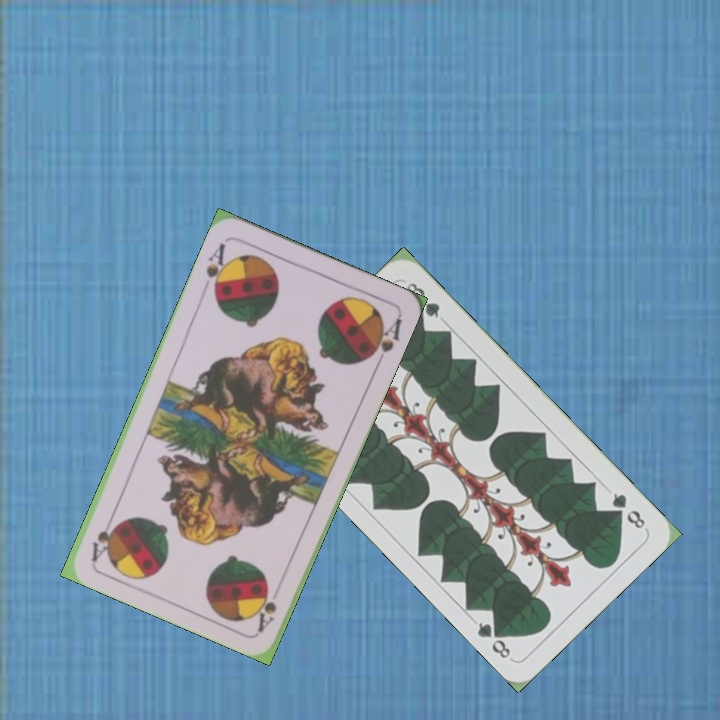G8: (607, 488, 648, 532)
SA: (202, 238, 233, 298), (252, 583, 280, 634)
